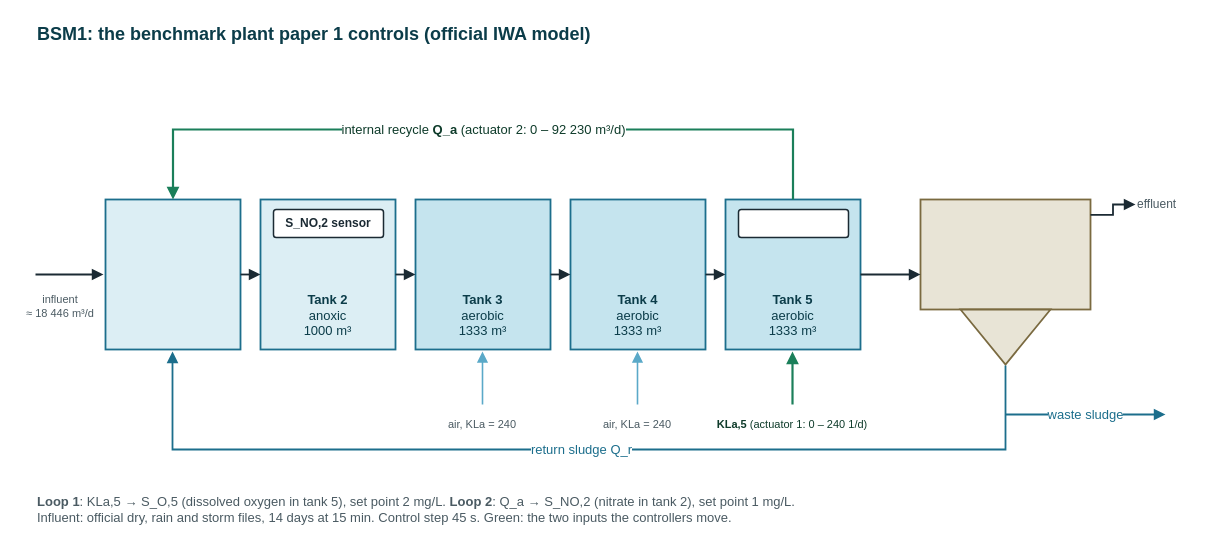
The diagram is 1222 pixels wide and 556 high, and some of its shapes have lost their labels. Here are the shapes that lost their labels. From the top down, the centre of each, then its label:
At (793,223): "S_O,5 sensor".
At (172,274): "Tank 1 anoxic 1000 m³".
At (1005,254): "Settler 10 layers".
